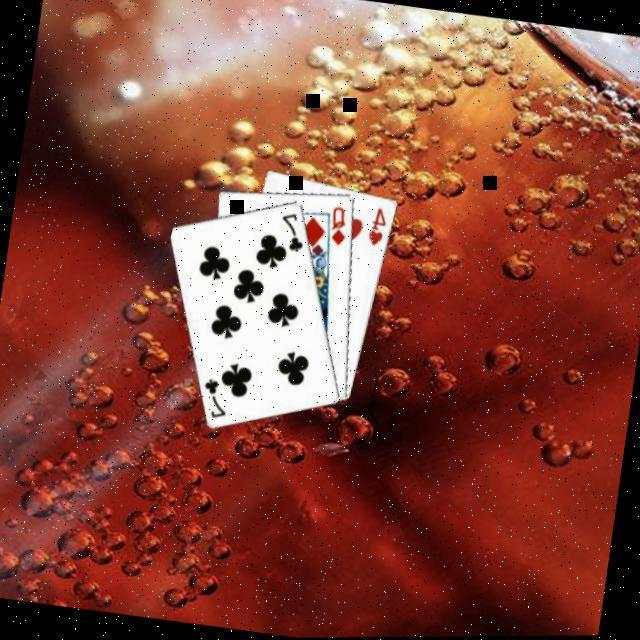4H: (365, 207, 393, 252)
7C: (197, 377, 234, 425), (275, 211, 311, 257)
QD: (325, 204, 353, 251)
